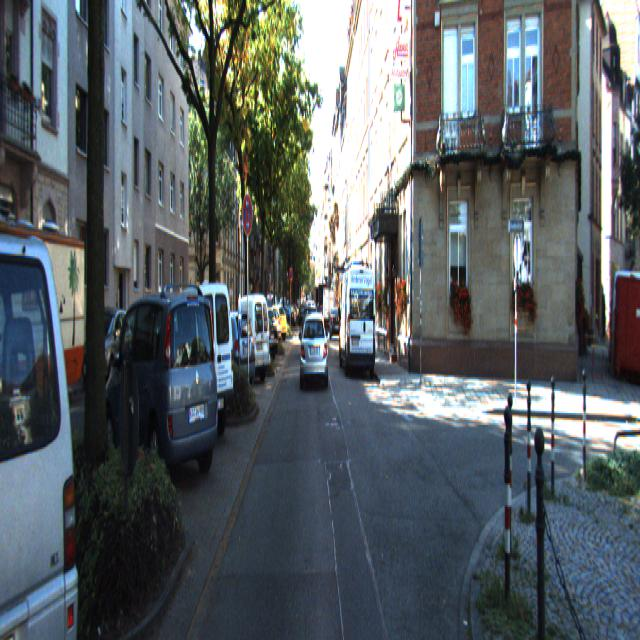Car: (0, 210, 92, 638), (103, 277, 223, 496), (0, 208, 89, 439), (158, 279, 238, 448), (200, 312, 258, 401), (218, 288, 272, 381), (339, 261, 376, 374), (300, 313, 329, 390), (301, 304, 318, 356)
